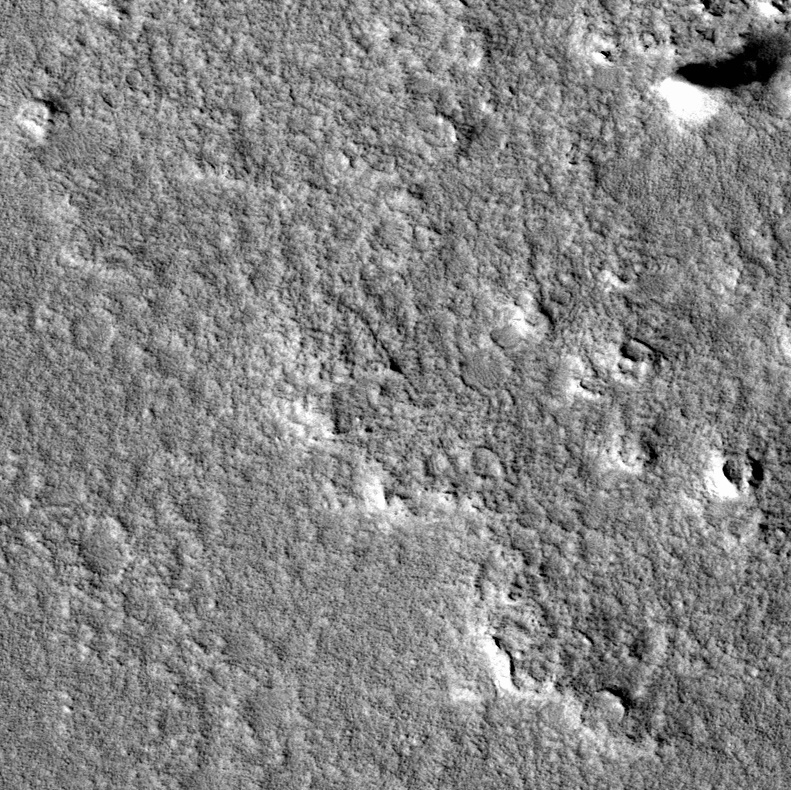dust_devil: (653, 24, 791, 128)
